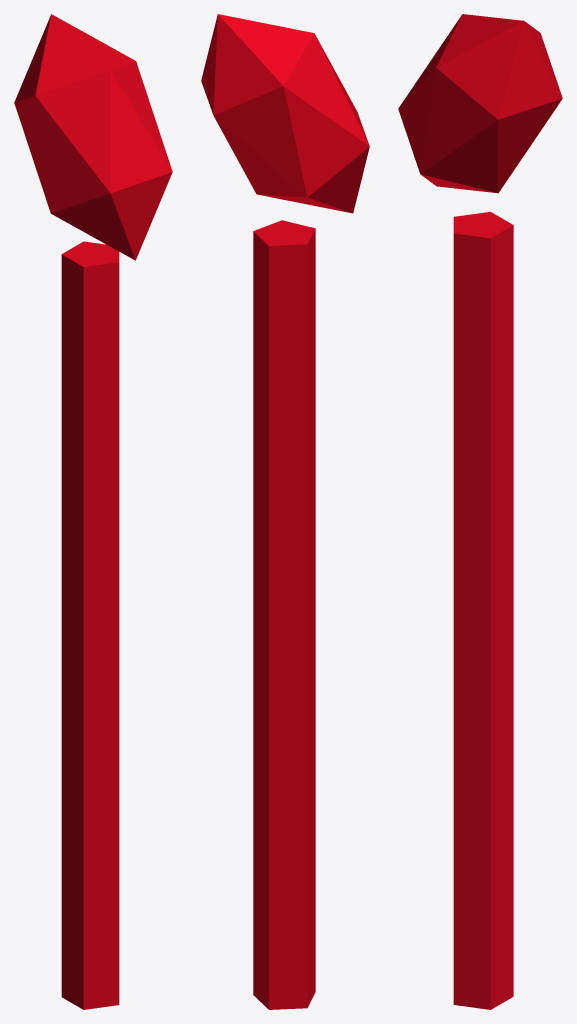
Rendered from saw enemy 2.fbx.
The picture shows the model from 3 angles, left to right: view 1: azimuth 90°, elevation 25°; view 2: azimuth 150°, elevation 25°; view 3: azimuth 270°, elevation 25°; orthographic projection. The views are drawn at different scales.
Parts seen in each view (by area): view 1: Cylinder; view 2: Cylinder; view 3: Cylinder.
Boxes of the visible parts, x1=… form: Cylinder: x1=14, y1=14, x2=172, y2=1009; Cylinder: x1=201, y1=14, x2=369, y2=1009; Cylinder: x1=398, y1=14, x2=562, y2=1009.
Bounding box in the file's own units: 168 × 1047 × 156.
